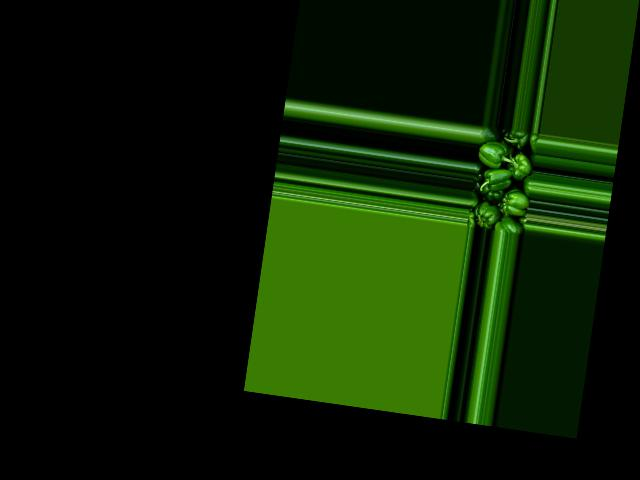bell_pepper: (478, 124, 500, 150)
